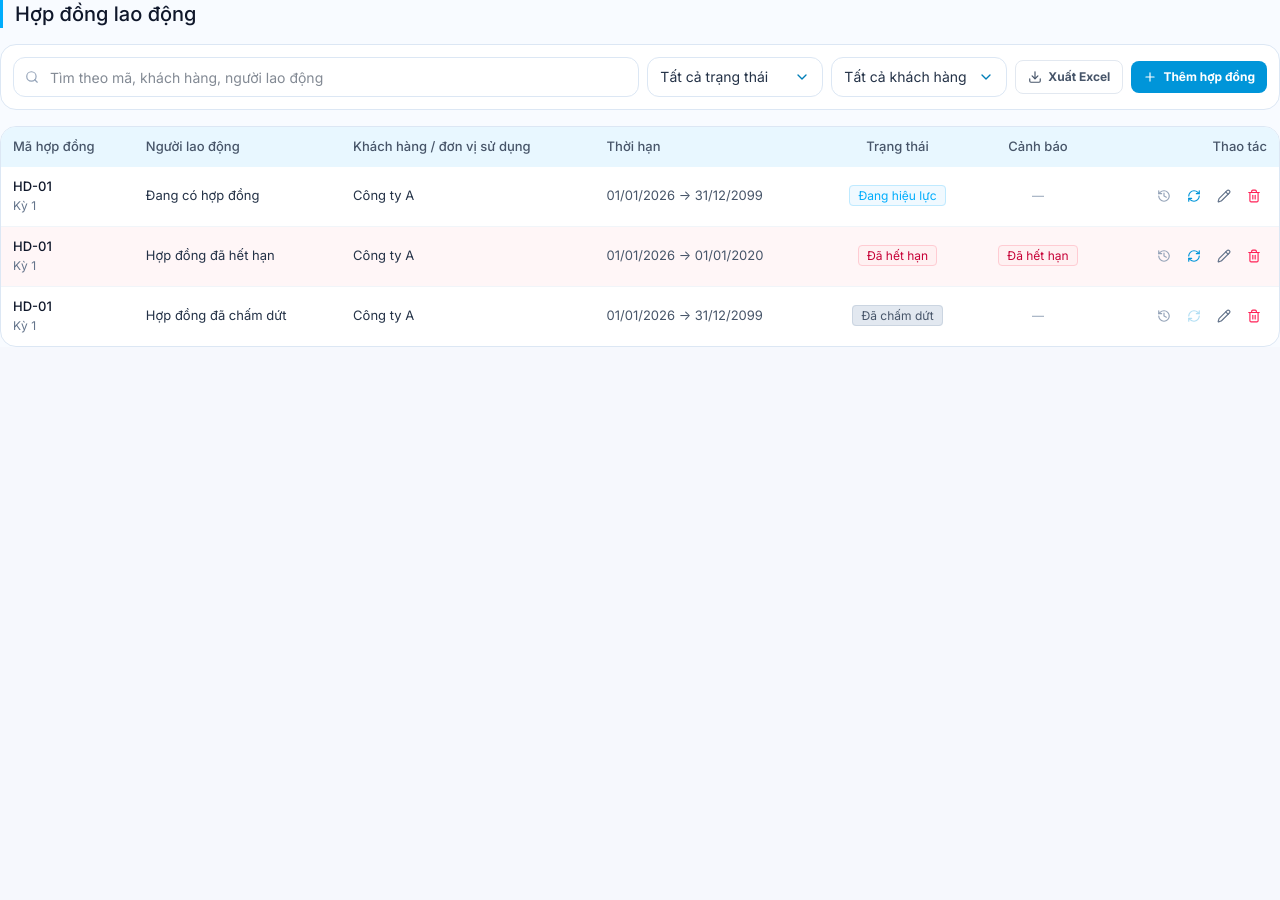
WorkerContractsPage › hides workers with a current contract from the create-contract search
Click the button "Thêm hợp đồng" at (1199, 77), box [1131, 61, 1267, 93]
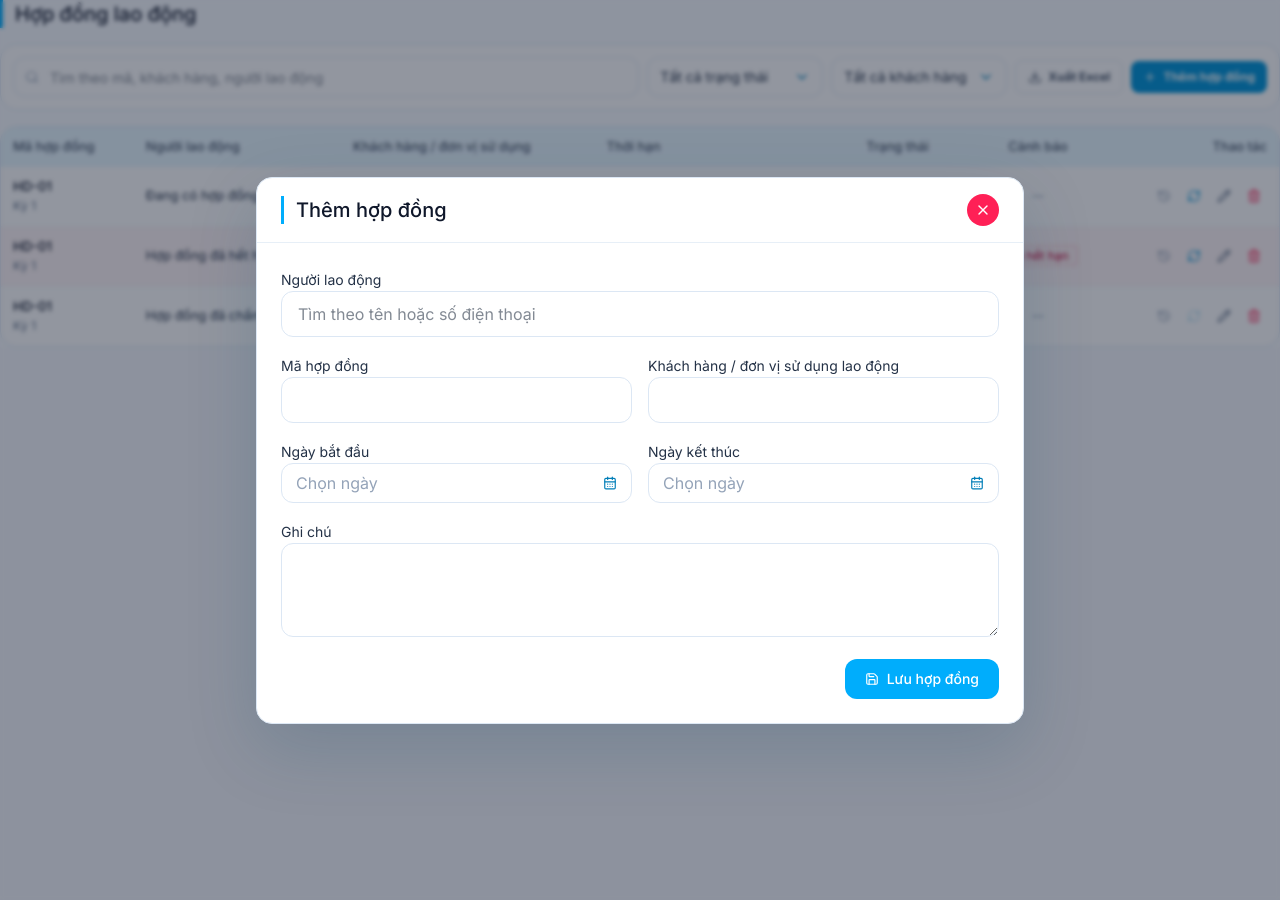
Focus the dropdown named "Người lao động" at (640, 314), box [281, 290, 999, 336]
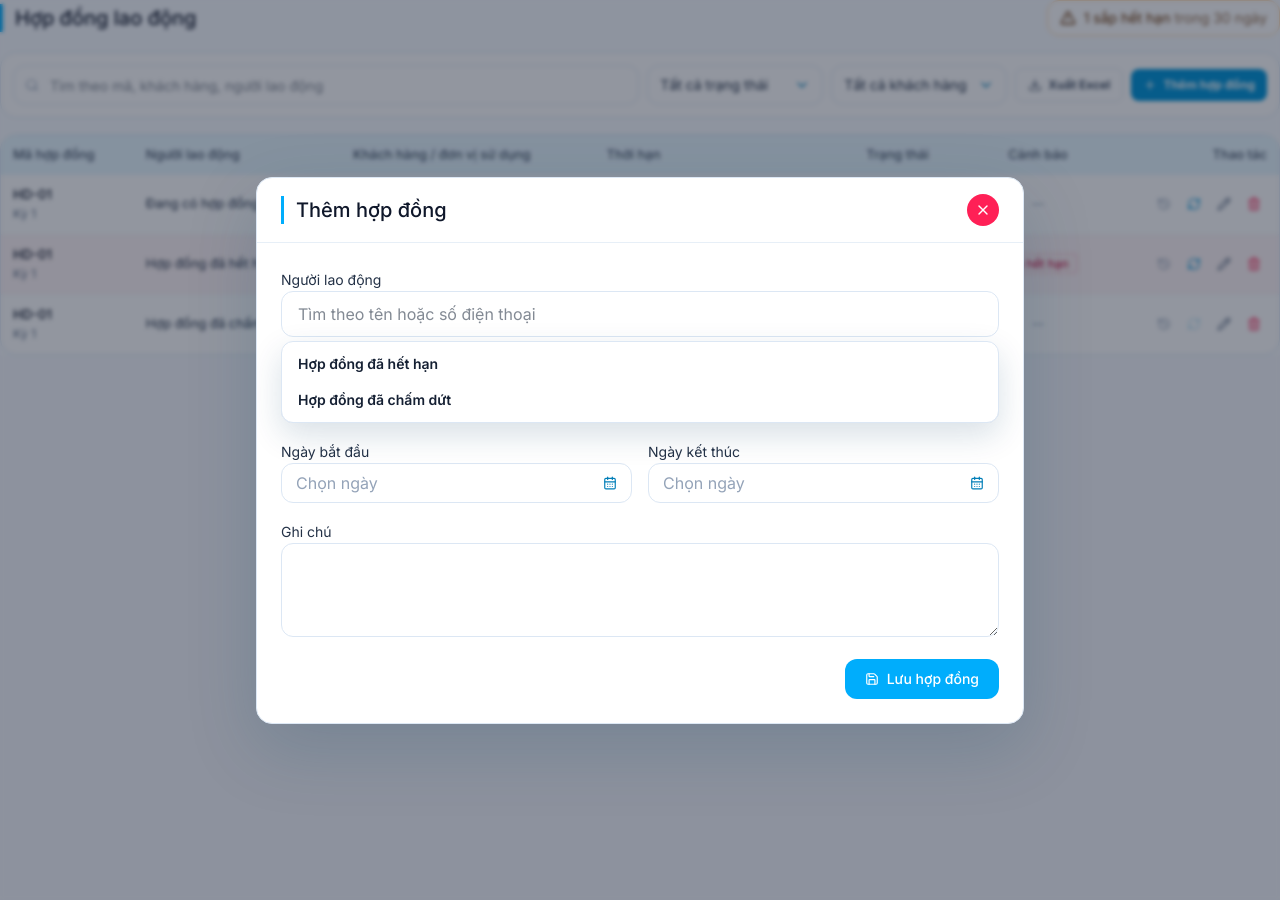
Now the option "Hợp đồng đã hết hạn" is shown, box [286, 346, 994, 382]
Now the option "Hợp đồng đã chấm dứt" is shown, box [286, 382, 994, 418]
